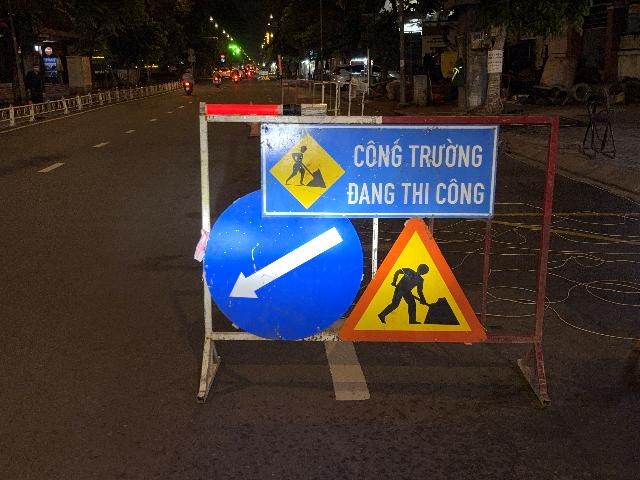cong-truong-dang-thi-cong: (338, 217, 487, 342)
huong-phai-di-vong-chuong-ngai-vat: (203, 188, 364, 342)
